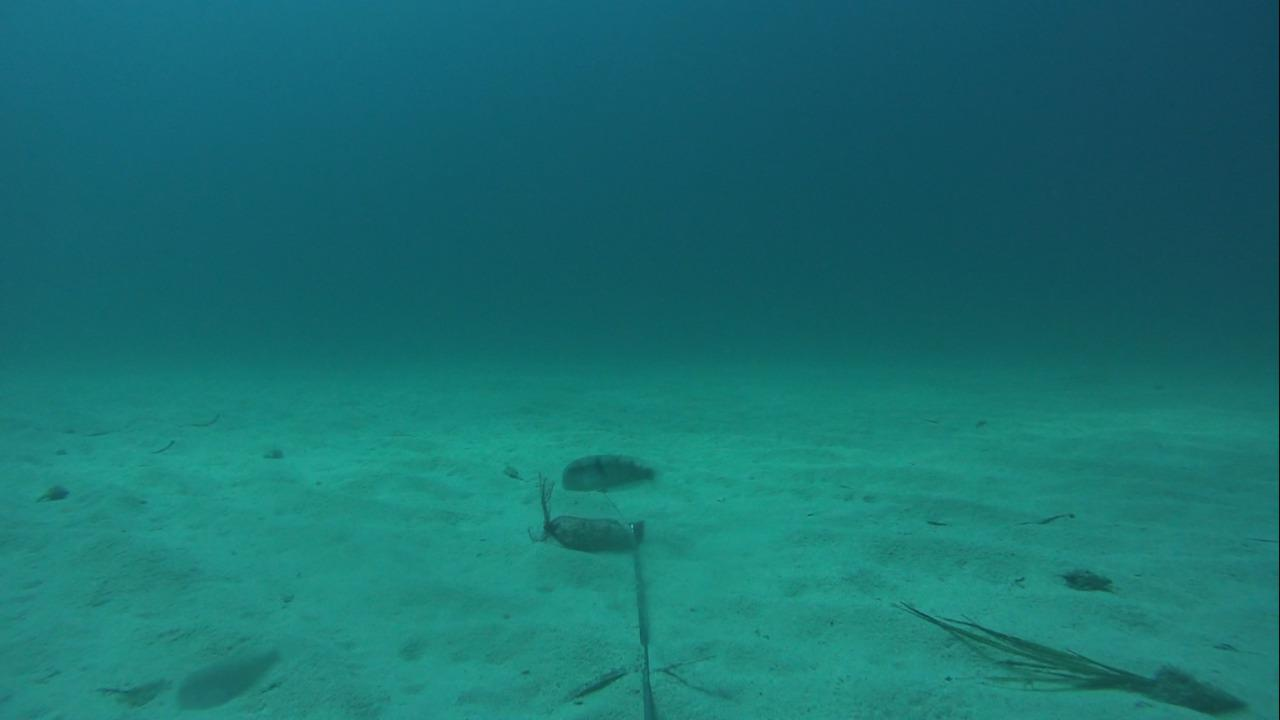raor: (172, 638, 282, 710), (555, 449, 659, 494)
